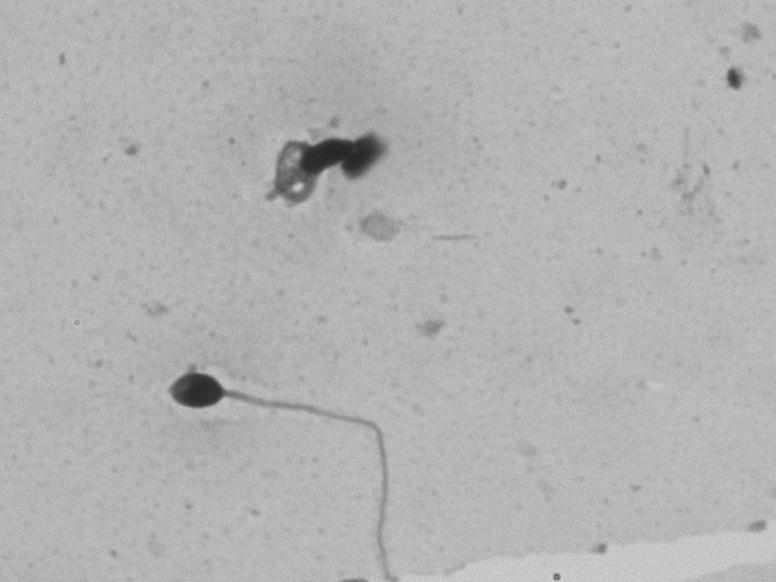Abnormal: (160, 322, 520, 556)
